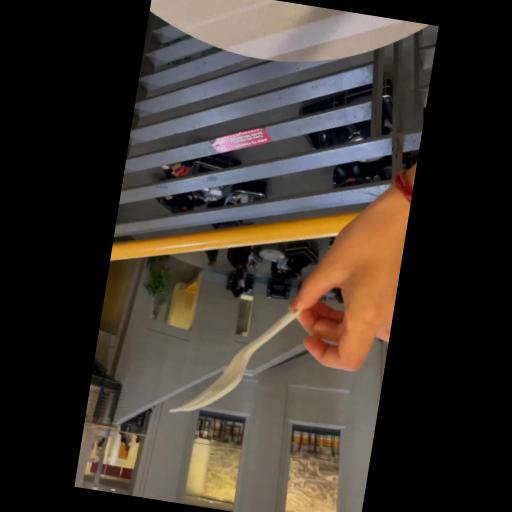utensil: (166, 282, 306, 432)
